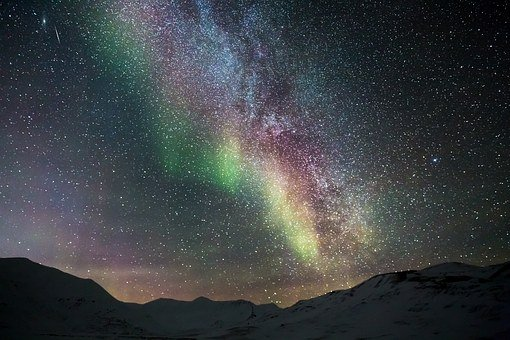mountain: (8, 264, 510, 337)
sky: (3, 4, 510, 267)
